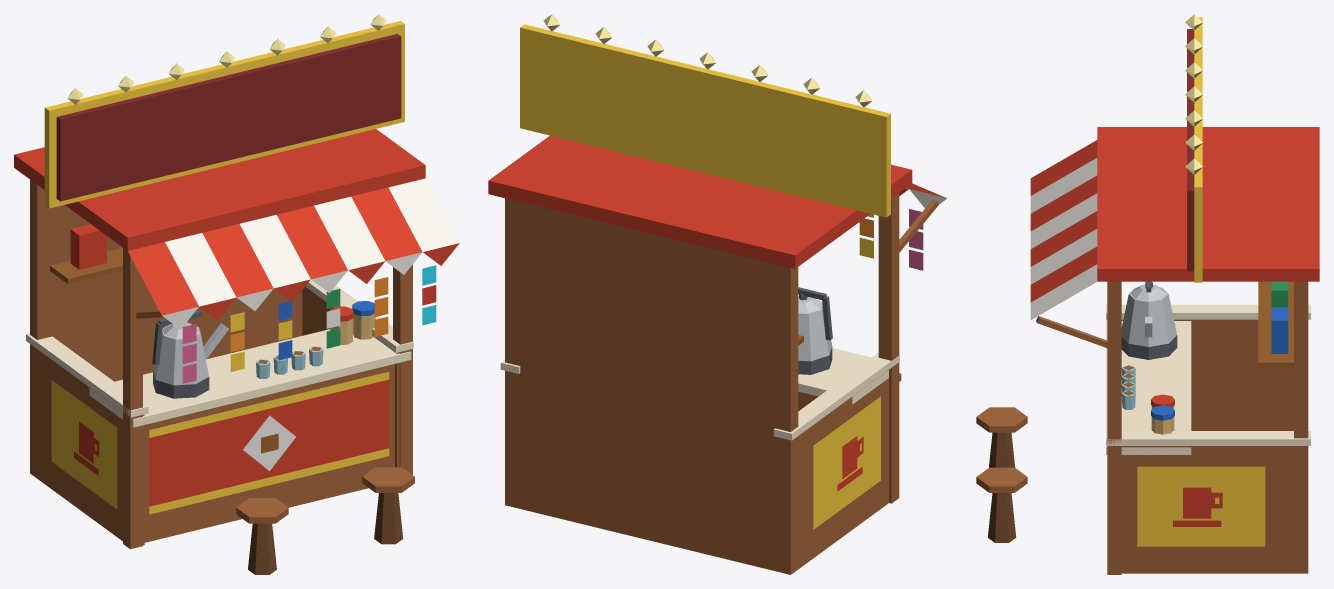
The model's file is chai_tapri.glb.
3 renders of one model, left to right at view 1: azimuth 30°, elevation 25°; view 2: azimuth 150°, elevation 25°; view 3: azimuth 270°, elevation 25°, orthographic. The views are drawn at different scales.
Visible parts, largest first — view 1: chai_tapri; view 2: chai_tapri; view 3: chai_tapri.
Boxes of the visible parts, x1,y1,x2,y2 form: chai_tapri: (14, 14, 459, 574); chai_tapri: (488, 14, 946, 574); chai_tapri: (976, 14, 1319, 574).
Bounding box in the file's own units: 2.82 × 3.27 × 2.41.
Materials: 1 (1 with a texture image).
